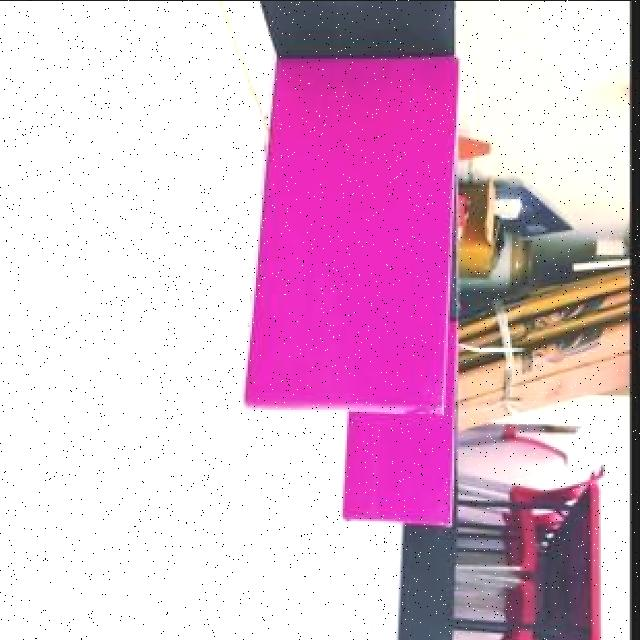xparking: (246, 62, 444, 411), (338, 422, 452, 521)
